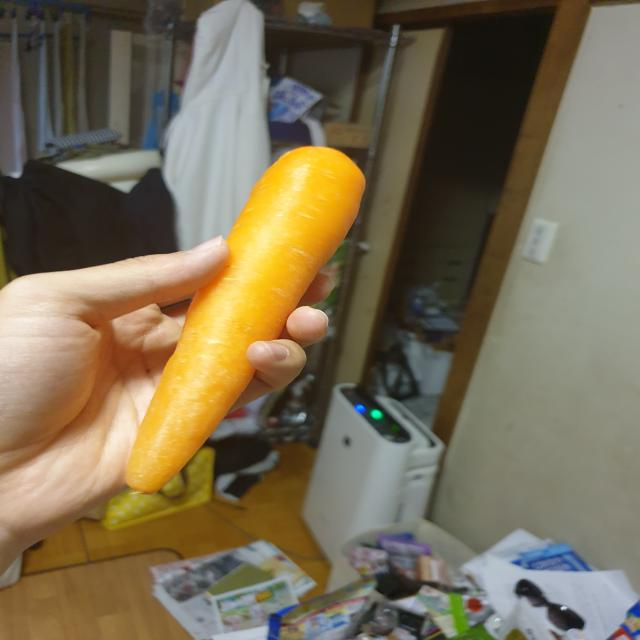Carrot: (109, 137, 376, 504)
